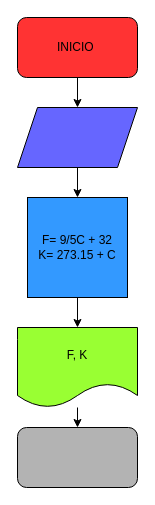
Some shapes in this 155 by 505 pixel diagram are drawn without their labels. Here are the shapes that lost their labels. From the top down, the centre of each, then its label:
the point at 77,137: C°
the point at 77,457: FIN
